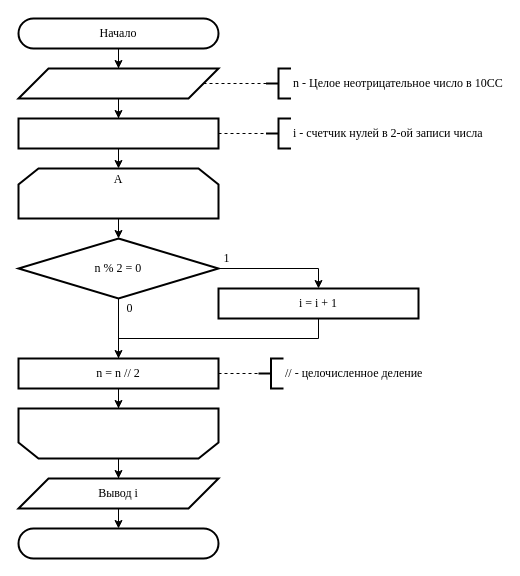
The diagram is 520 pixels wide and 576 high, and some of its shapes have lost their labels. Here are the shapes that lost their labels. From the top down, the centre of each, then its label:
[118,83]: Ввод n
[118,133]: i = 0
[118,433]: n > 0 A
[118,543]: Конец
